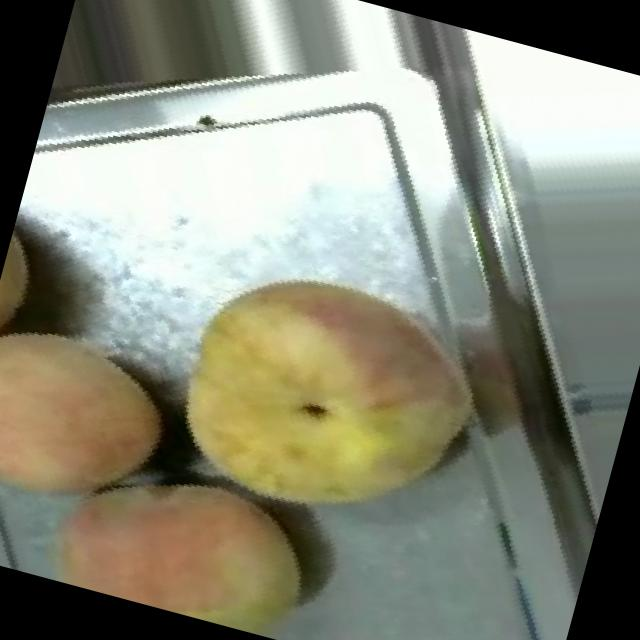Fruit: (108, 198, 552, 595), (9, 406, 362, 640), (0, 276, 209, 554), (46, 0, 309, 162)
